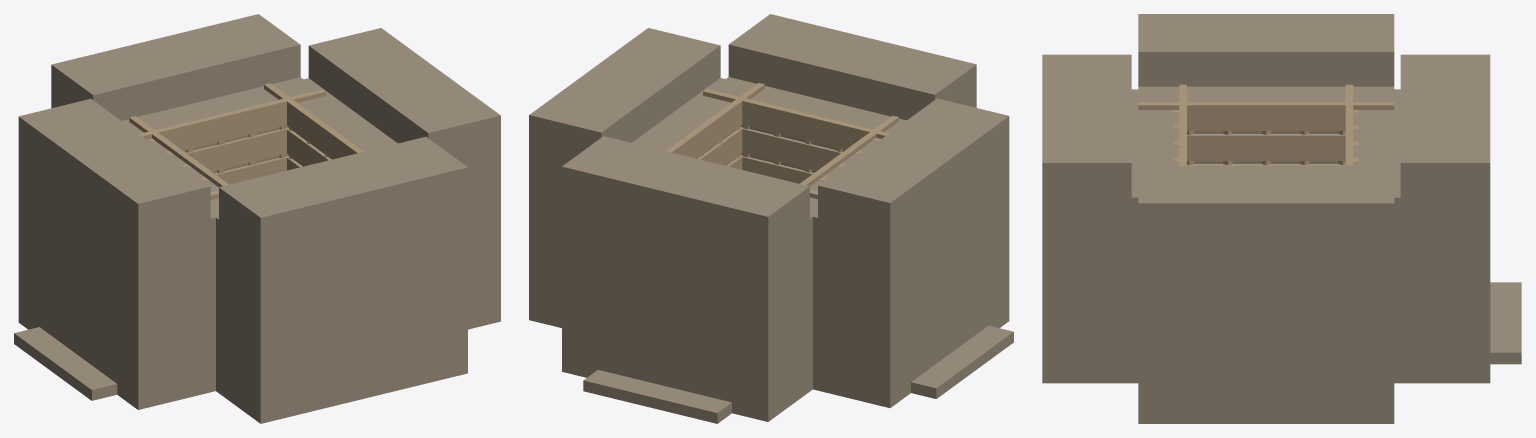
File: trench-corner.glb
The picture shows the model from 3 angles, left to right: view 1: azimuth 30°, elevation 25°; view 2: azimuth 150°, elevation 25°; view 3: azimuth 270°, elevation 25°; orthographic projection. The views are drawn at different scales.
Visible parts, largest first — view 1: trench-corner; view 2: trench-corner; view 3: trench-corner.
Boxes of the visible parts, box(x1,y1,x2,y2) form: trench-corner: box(14, 14, 500, 423); trench-corner: box(529, 14, 1013, 423); trench-corner: box(1042, 14, 1521, 423).
Bounding box in the file's own units: 3.75 × 1.9 × 3.75.
